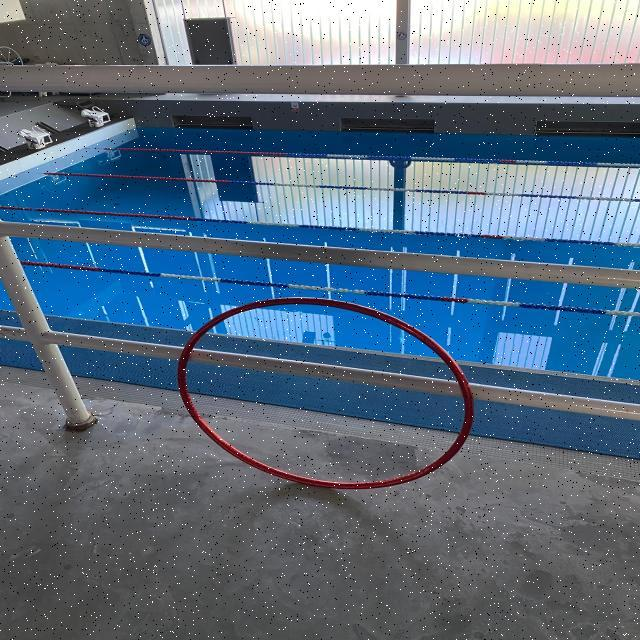Circle: (176, 297, 476, 490)
